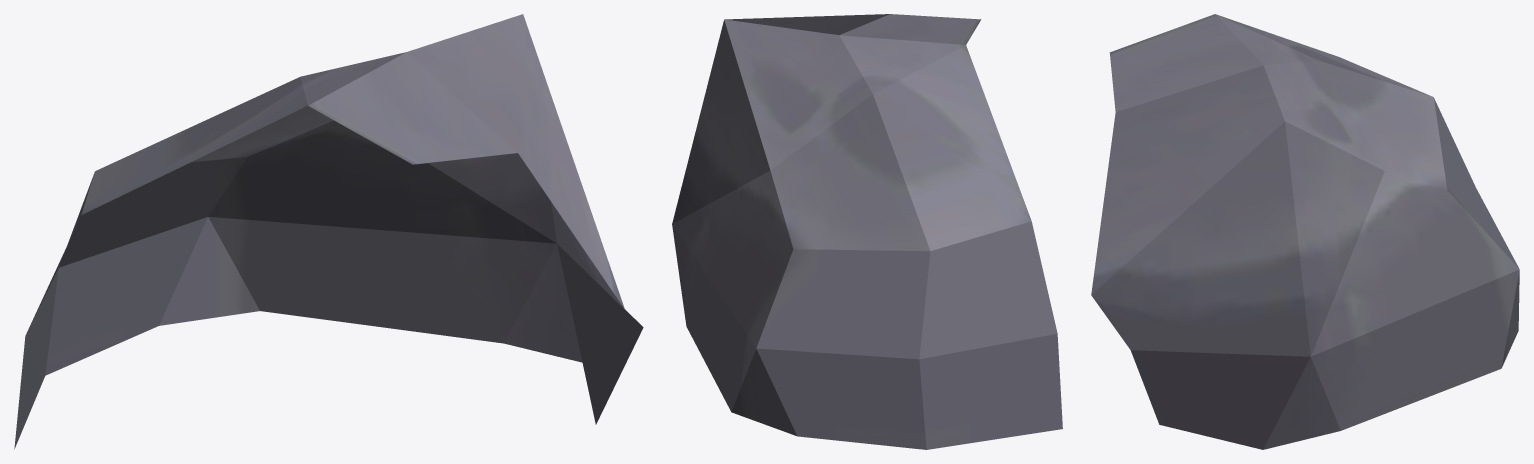
Rendered from RockSmallStone.fbx.
3 views of the same model, side by side, from view 1: azimuth 30°, elevation 25°; view 2: azimuth 150°, elevation 25°; view 3: azimuth 270°, elevation 25° (orthographic). The views are drawn at different scales.
Parts seen in each view (by area): view 1: RockMesh; view 2: RockMesh; view 3: RockMesh.
Boxes of the visible parts, <box> form: RockMesh: <box>14,14,643,449</box>; RockMesh: <box>672,14,1062,449</box>; RockMesh: <box>1091,14,1519,449</box>.
Size of what is drawn, in the model's own units: 1.06 by 0.7005 by 0.8882.
